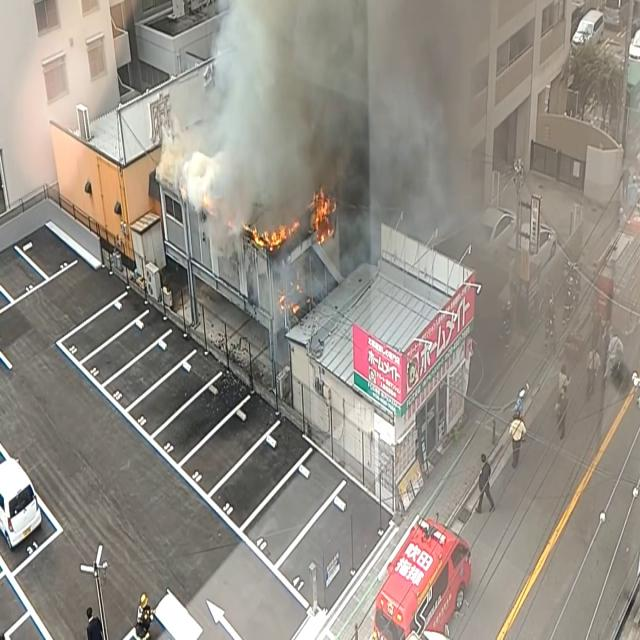Fire: (246, 214, 298, 256), (310, 180, 336, 247)
Smoke: (174, 0, 496, 252)
